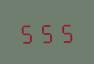five: (18, 20, 36, 44), (57, 19, 75, 43), (38, 20, 56, 43)
